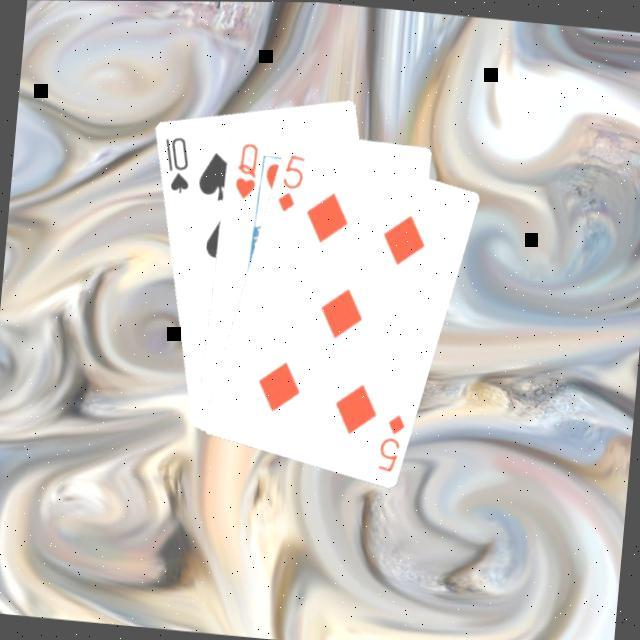10S: (156, 131, 195, 197)
5D: (372, 409, 408, 476), (272, 150, 307, 216)
QH: (229, 138, 260, 202)
